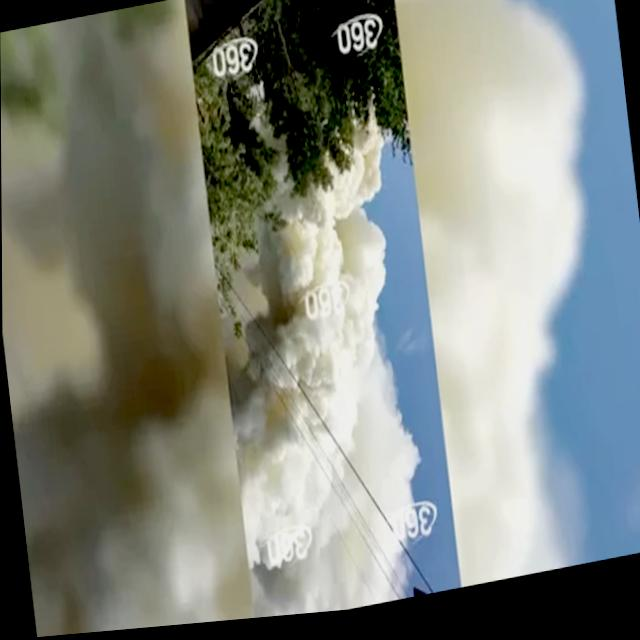Smoke: (202, 125, 434, 626)
